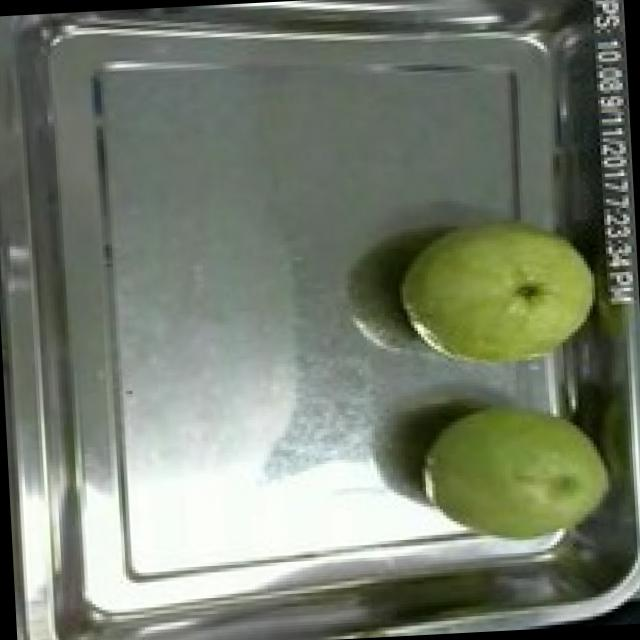Fruit: (401, 381, 634, 575), (385, 202, 608, 386)
